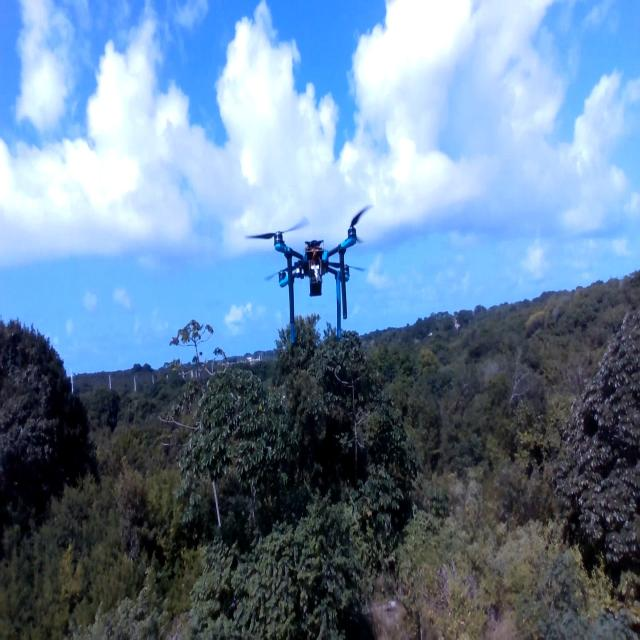-uav-: (240, 190, 388, 344)
